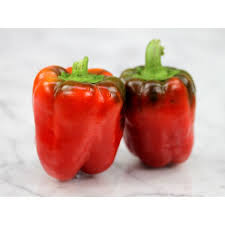bell pepper: (17, 49, 121, 180), (112, 43, 195, 174)
